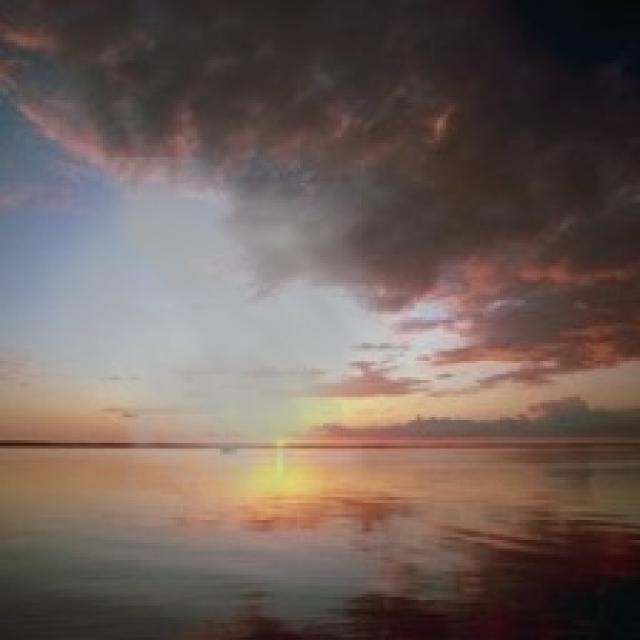smoke: (20, 157, 423, 534)
